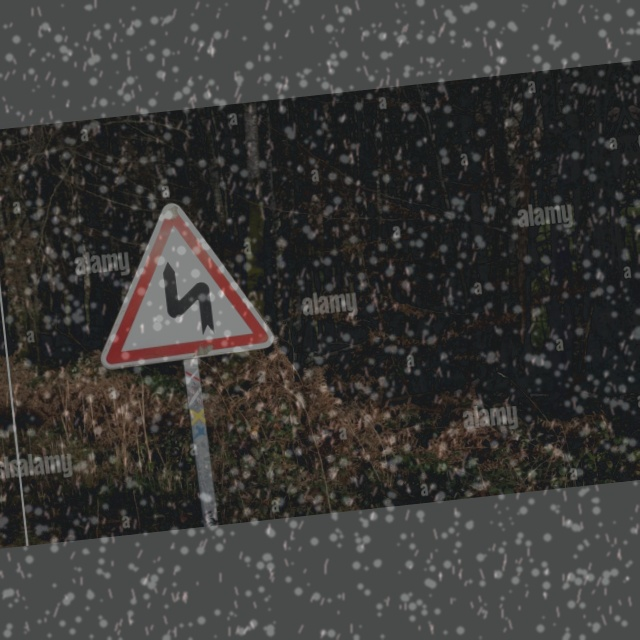Left_Reverse_Bend: (77, 184, 280, 376)
